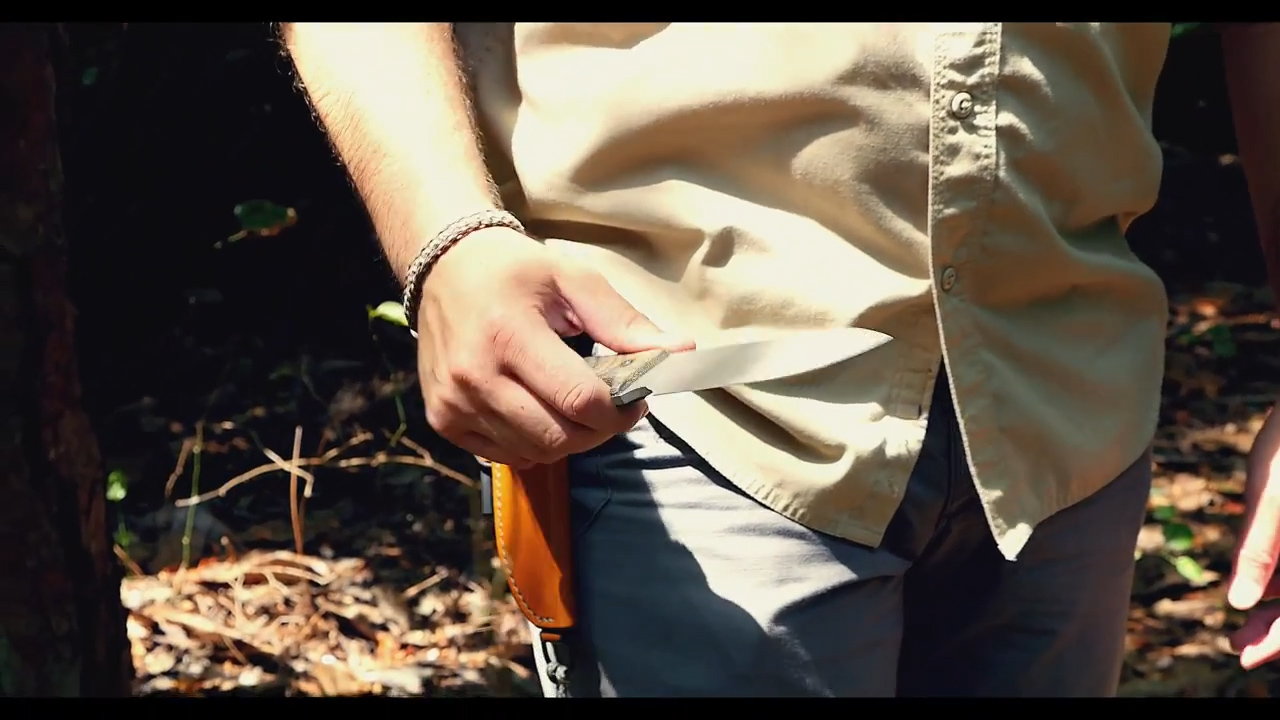knife: (459, 297, 905, 471)
